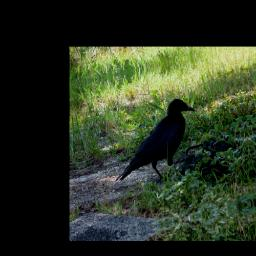Crow: (105, 94, 204, 193)
